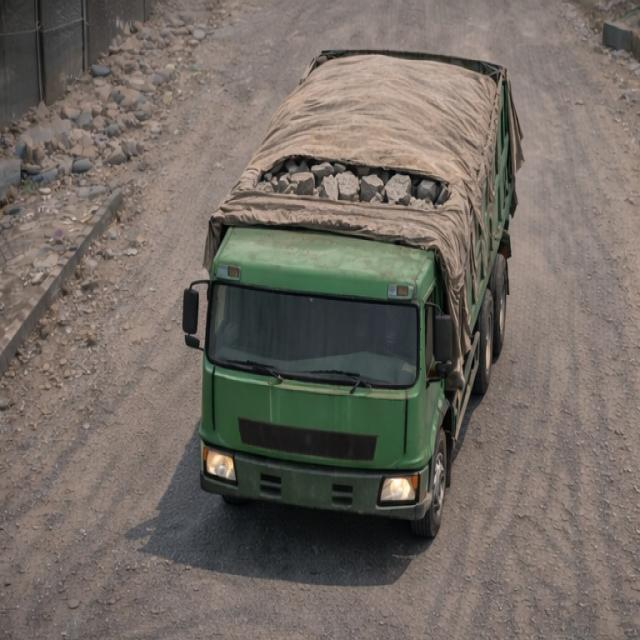Box: (225, 46, 513, 220)
Truck: (179, 44, 526, 522)
